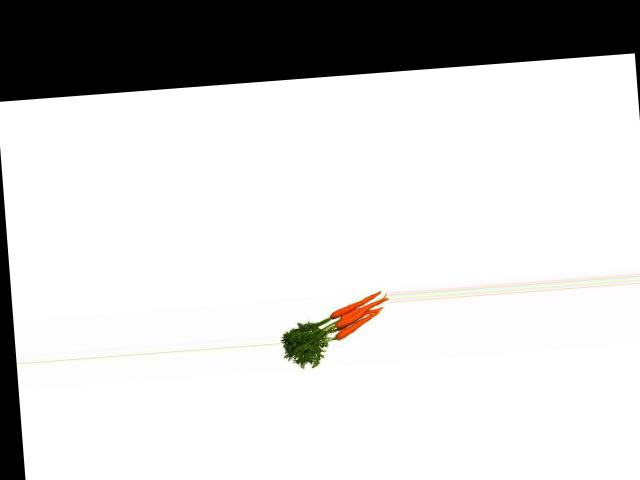carrot: (325, 285, 384, 321)
